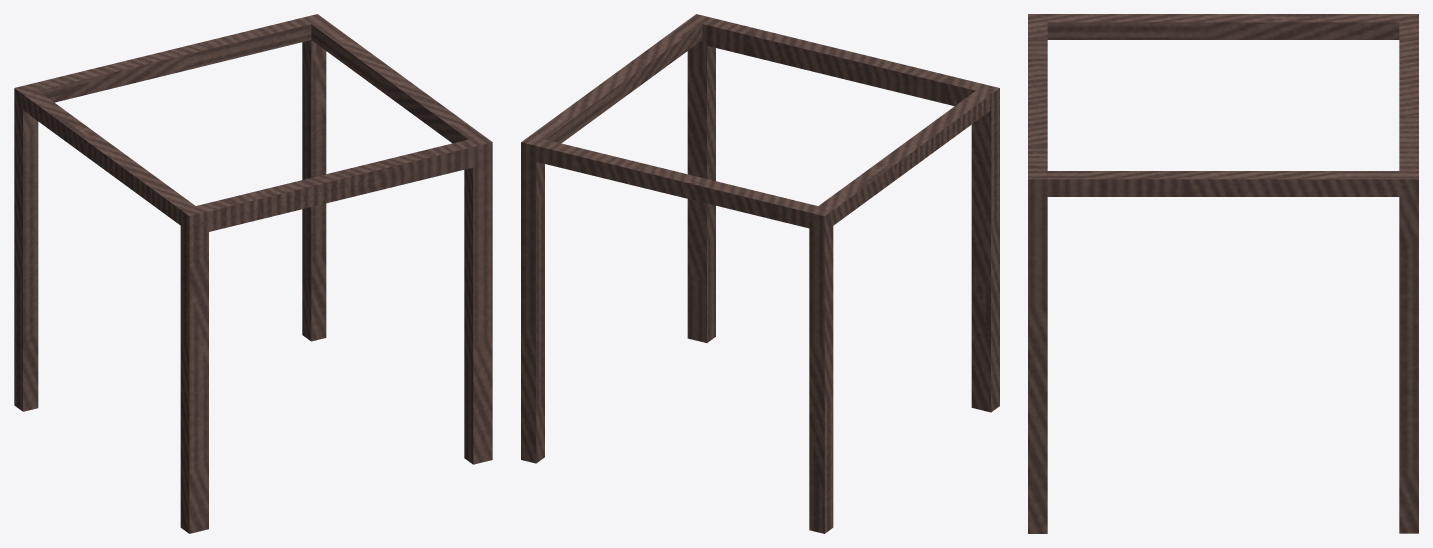
Rendered from frame.glb.
3 renders of one model, left to right at view 1: azimuth 30°, elevation 25°; view 2: azimuth 150°, elevation 25°; view 3: azimuth 270°, elevation 25°, orthographic. The views are drawn at different scales.
Visible parts, largest first — view 1: frame; view 2: frame; view 3: frame.
Boxes of the visible parts, x1,y1,x2,y2 form: frame: [14, 14, 492, 533]; frame: [521, 14, 999, 533]; frame: [1028, 14, 1418, 533].
Size of the model in its own units: 2 by 2 by 2.
1 material, 1 textured.
